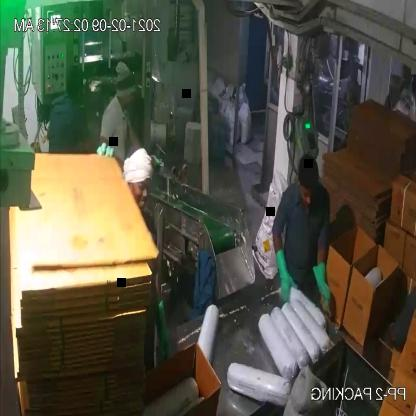glove: (150, 288, 176, 372), (308, 252, 336, 321), (273, 245, 299, 305)
